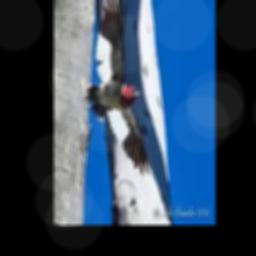Woodpecker: (82, 0, 150, 177)
